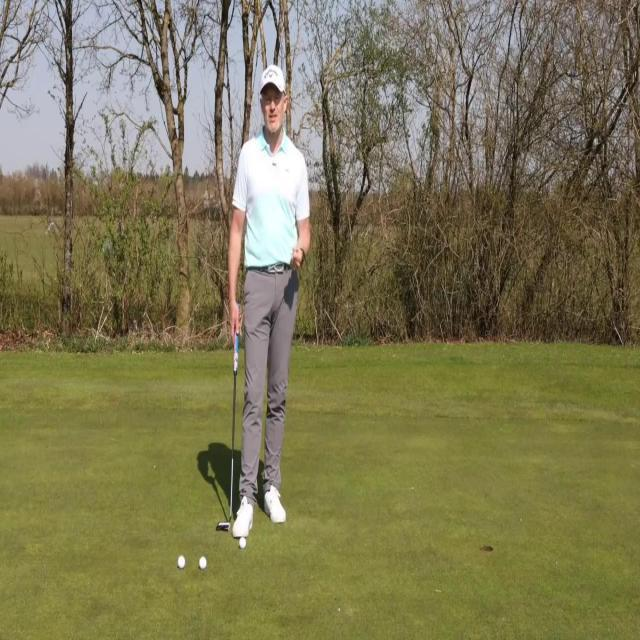ClubHead: (210, 509, 235, 539)
GolfBall: (196, 549, 210, 578), (234, 530, 250, 552), (175, 550, 188, 574)
